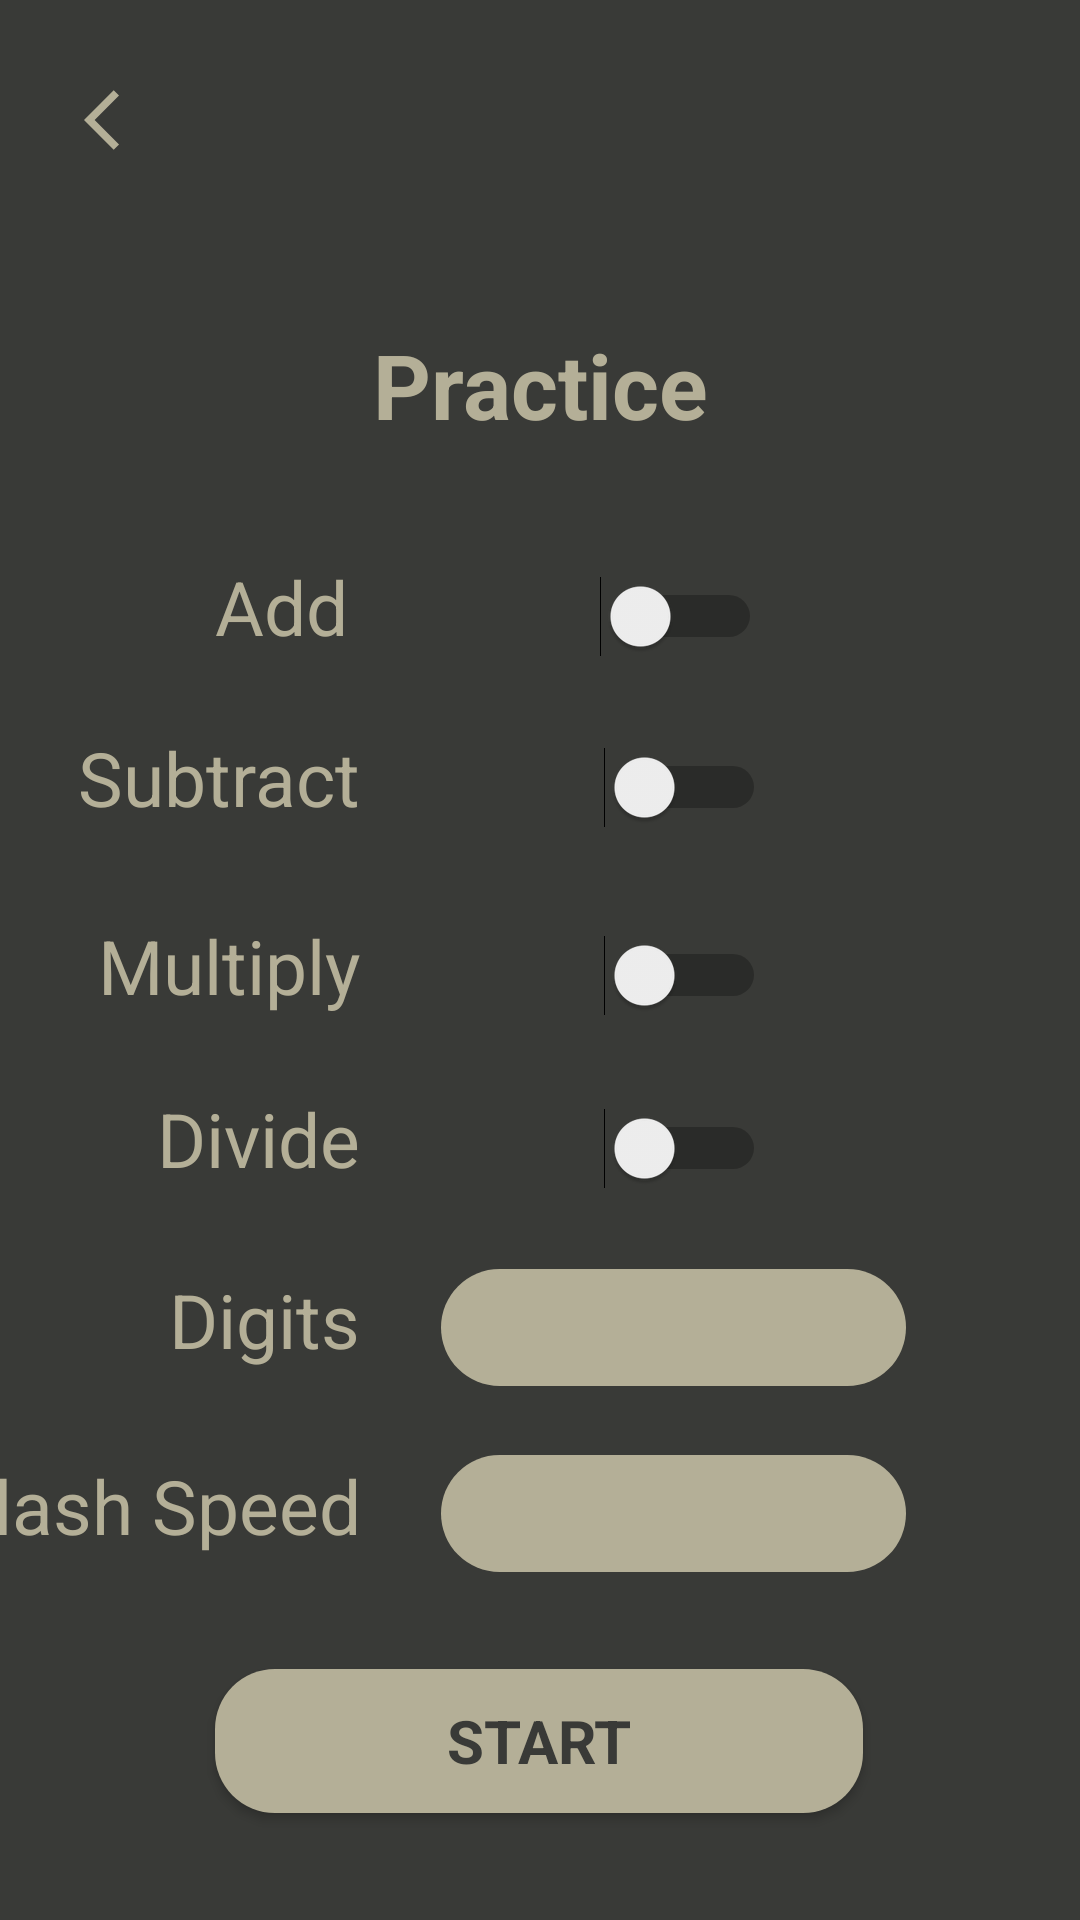

Icons on this 1080×1920 Android screen, each with the point to tap as (x,y):
arrow back: (101,120)
